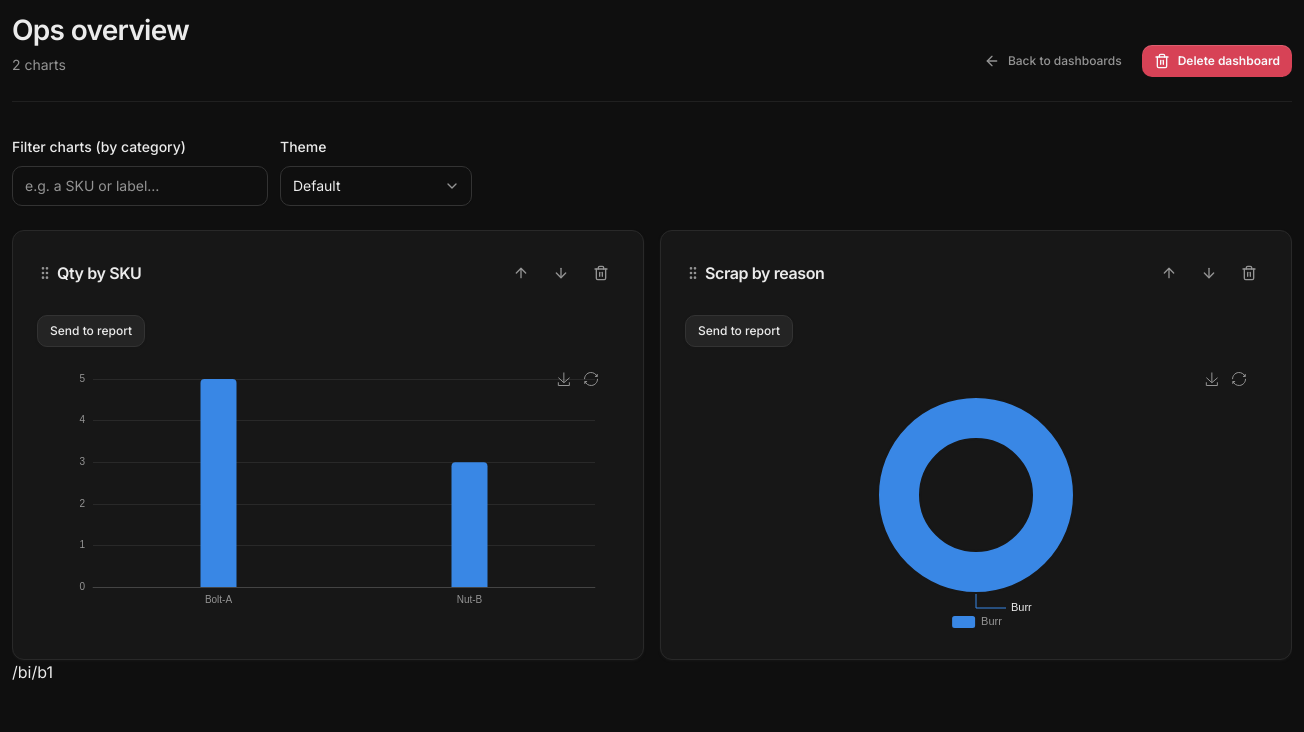
Test: DashboardDetail › removes a chart from the dashboard by unlinking it
The image size is (1304, 732).
What coordinates should you click on to do the following:
click the button titled "Remove from dashboard" in the row of "Scrap by reason"
I would click on:
 (1249, 273)
Its box is [1231,255,1267,291].
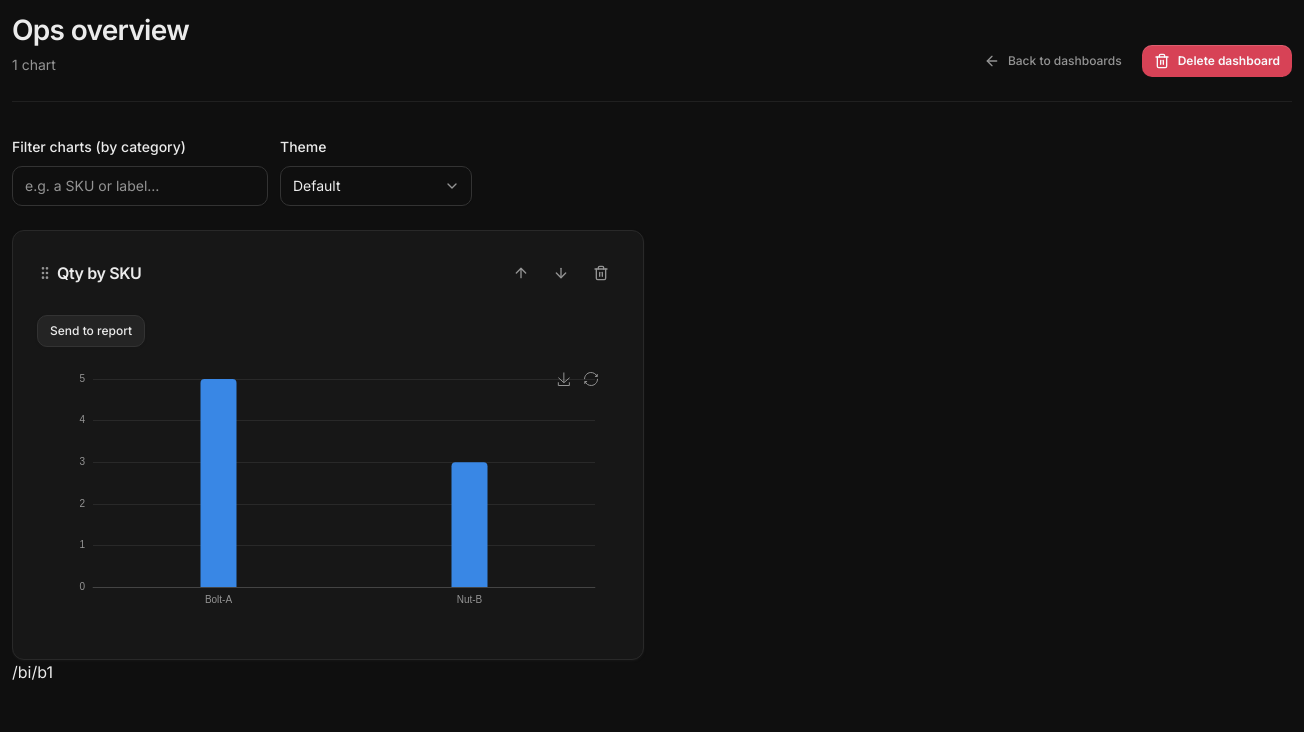
Expected: the heading "Scrap by reason" is gone
